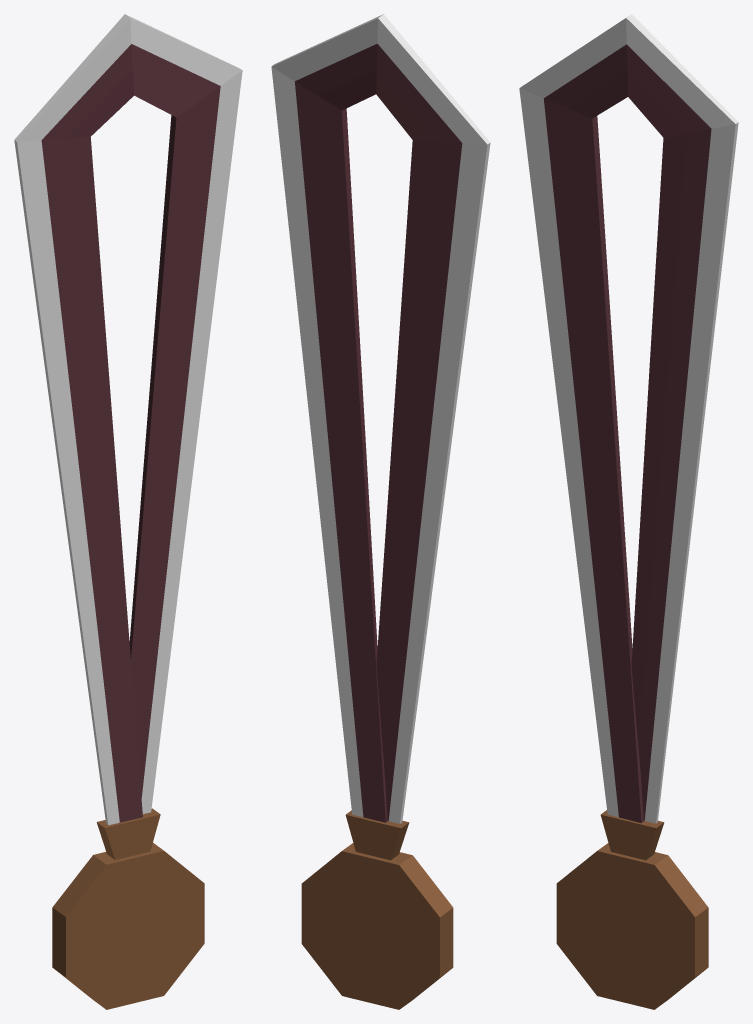
Rendered from furniture-medal-tricolor-bronze.glb.
3 views of the same model, side by side, from view 1: azimuth 30°, elevation 25°; view 2: azimuth 150°, elevation 25°; view 3: azimuth 330°, elevation 25° (orthographic).
Visible parts, largest first — view 1: medal-tricolor-cbronze; view 2: medal-tricolor-cbronze; view 3: medal-tricolor-cbronze.
Boxes of the visible parts, box(x1,y1,x2,y2) form: medal-tricolor-cbronze: box(14, 14, 242, 1009); medal-tricolor-cbronze: box(271, 14, 490, 1009); medal-tricolor-cbronze: box(519, 14, 738, 1009).
Bounding box in the file's own units: 0.0736 × 0.3131 × 0.0088.
